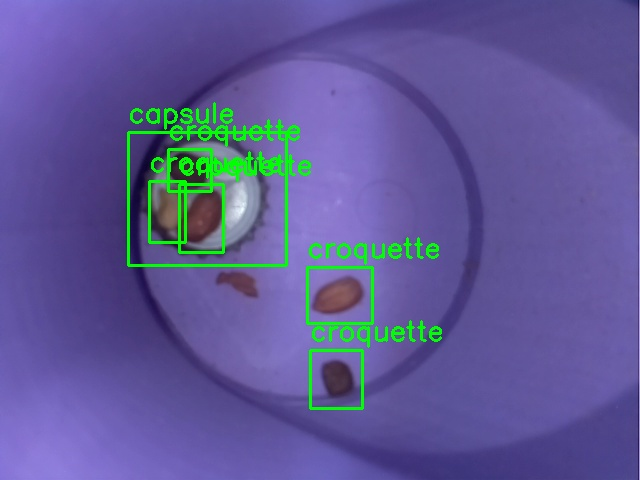capsule: (128, 132, 286, 265)
croquette: (307, 267, 372, 323), (310, 350, 362, 408), (179, 184, 223, 252), (149, 181, 185, 242), (168, 149, 211, 191)
